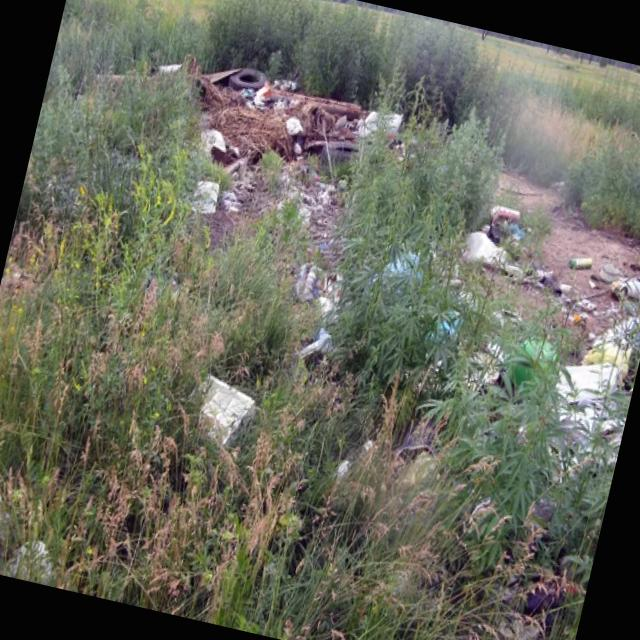garbage: (183, 49, 390, 262), (450, 182, 640, 413)
